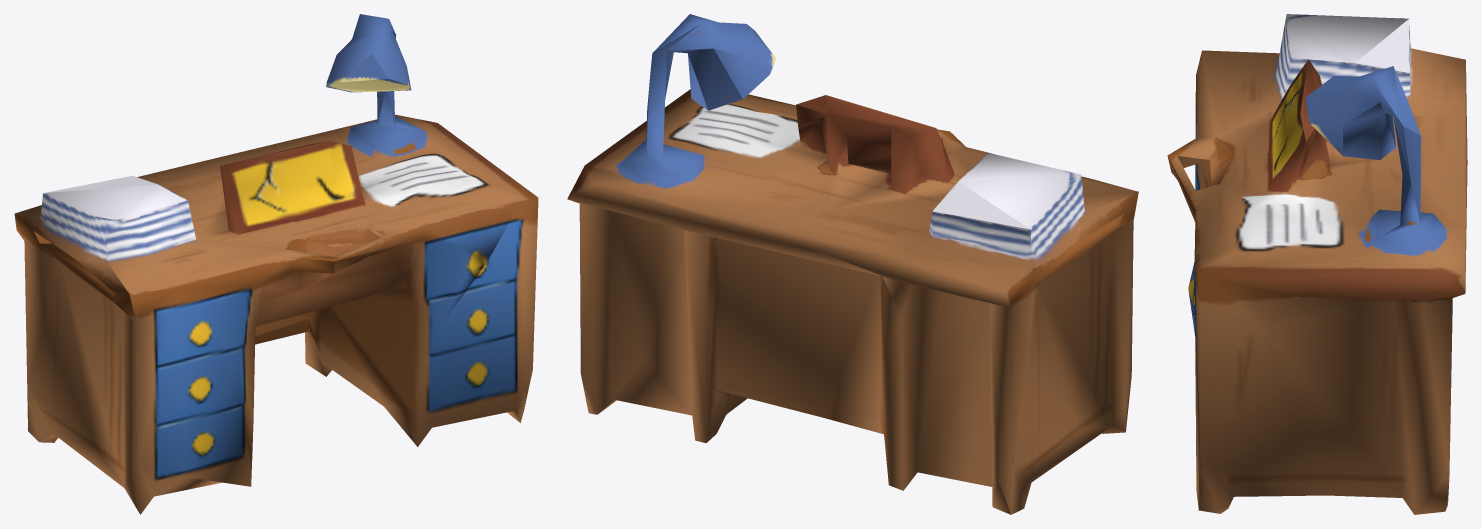
Rendered from principal-desk-broken.glb.
The picture shows the model from 3 angles, left to right: view 1: azimuth 30°, elevation 25°; view 2: azimuth 150°, elevation 25°; view 3: azimuth 270°, elevation 25°; orthographic projection. The views are drawn at different scales.
Parts seen in each view (by area): view 1: geometry_0.001; view 2: geometry_0.001; view 3: geometry_0.001.
Part boxes in pixels (x1,y1,x2,y2): geometry_0.001: [14, 14, 538, 514]; geometry_0.001: [567, 14, 1138, 514]; geometry_0.001: [1167, 14, 1467, 514].
Bounding box in the file's own units: 0.9957 × 0.8466 × 0.5675.
1 material, 1 textured.
